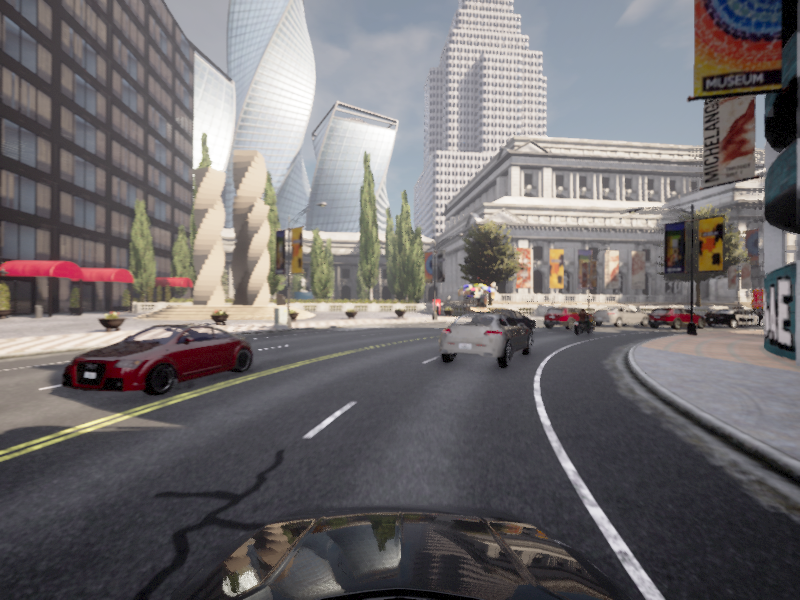vehicle: (47, 319, 261, 406), (431, 309, 535, 372), (470, 308, 539, 337), (699, 306, 775, 328), (642, 306, 710, 330), (537, 306, 599, 330), (587, 306, 651, 327), (642, 308, 710, 326), (569, 307, 598, 336)
